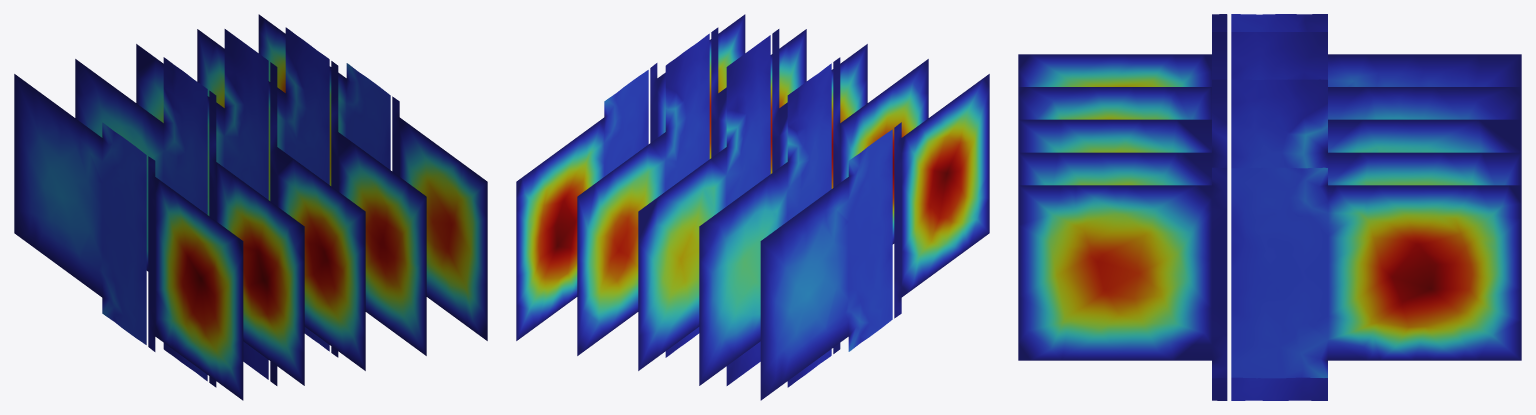
The model's file is VelocidadH2-O2_mh2-2.70_V-0.8.glb.
3 renders of one model, left to right at view 1: azimuth 30°, elevation 25°; view 2: azimuth 150°, elevation 25°; view 3: azimuth 270°, elevation 25°, orthographic. The views are drawn at different scales.
Bounding box in the file's own units: 0.0008 × 0.001 × 0.0013.
Materials: 2 (2 with a texture image).
